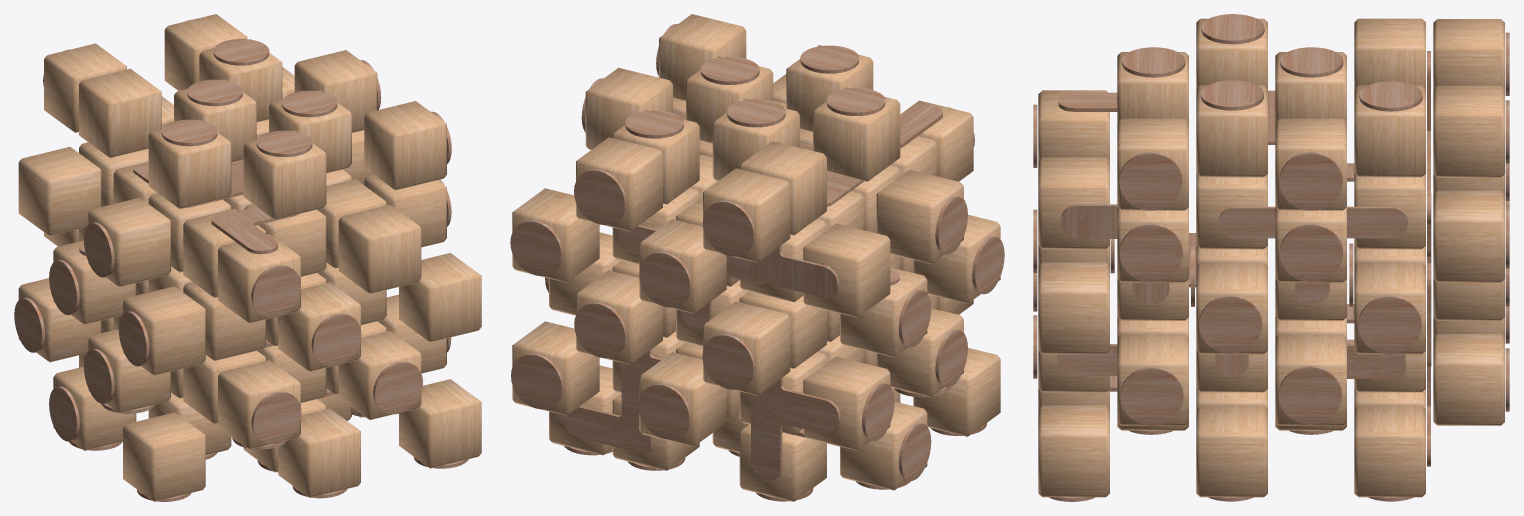
File: level_106.fbx
3 views of the same model, side by side, from view 1: azimuth 30°, elevation 25°; view 2: azimuth 150°, elevation 25°; view 3: azimuth 270°, elevation 25° (orthographic). The views are drawn at different scales.
Visible parts, largest first — view 1: Cube.079, Cube.066, Cube.002, Cube.061, Cube.069, Cube.078, Cube.074, Cube.072, Cube.065, Cube.064, Cube.018, Cube.029 (+49 smaller); view 2: Cube.061, Cube.065, Cube.029, Cube.081, Cube.085, Cube.087, Cube.002, Cube.045, Cube.070, Cube.066, Cube.069, Cube.086 (+59 smaller); view 3: Cube.078, Cube.042, Cube.086, Cube.087, Cube.010, Cube.074, Cube.082, Cube.067, Cube.071, Cube.079, Cube.085, Cube.069 (+49 smaller).
Boxes of the visible parts, <box> form: Cube.079: <box>338,204,421,293</box>; Cube.066: <box>364,101,446,190</box>; Cube.002: <box>123,412,205,501</box>; Cube.061: <box>18,147,101,235</box>; Cube.069: <box>79,68,161,157</box>; Cube.078: <box>399,253,481,342</box>; Cube.074: <box>399,379,481,468</box>; Cube.072: <box>278,408,360,497</box>; Cube.065: <box>148,119,231,208</box>; Cube.064: <box>243,130,326,219</box>; Cube.018: <box>123,286,205,375</box>; Cube.029: <box>88,197,170,286</box>; Cube.061: <box>803,223,890,317</box>; Cube.065: <box>813,87,900,181</box>; Cube.029: <box>876,169,963,263</box>; Cube.081: <box>703,301,790,395</box>; Cube.085: <box>703,168,790,262</box>; Cube.087: <box>576,137,662,231</box>; Cube.002: <box>913,348,1000,436</box>; Cube.045: <box>803,356,890,450</box>; Cube.070: <box>585,67,672,149</box>; Cube.066: <box>659,14,746,101</box>; Cube.069: <box>739,141,826,235</box>; Cube.086: <box>512,188,599,282</box>; Cube.078: <box>1038,262,1109,354</box>; Cube.042: <box>1354,405,1425,497</box>; Cube.086: <box>1433,190,1504,282</box>; Cube.087: <box>1433,85,1504,177</box>; Cube.010: <box>1196,405,1267,497</box>; Cube.074: <box>1038,405,1109,497</box>; Cube.082: <box>1433,334,1504,425</box>; Cube.067: <box>1196,85,1267,177</box>; Cube.071: <box>1354,85,1425,177</box>; Cube.079: <box>1038,157,1109,249</box>; Cube.085: <box>1433,19,1504,88</box>; Cube.069: <box>1354,18,1425,88</box>.
Bounding box in the file's own units: 11.09 × 11.09 × 13.27.
